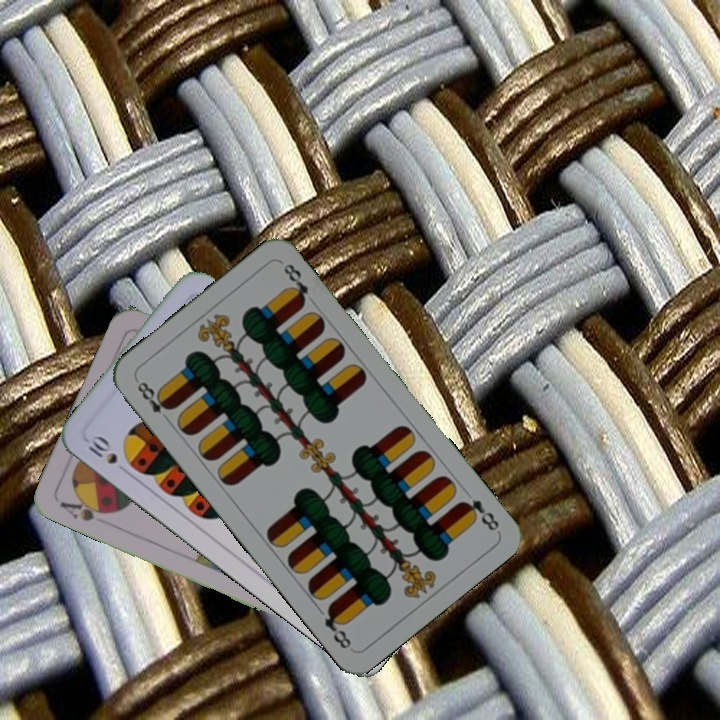E8: (132, 375, 175, 426), (456, 495, 502, 534)
S10: (82, 430, 132, 477)
SA: (55, 493, 115, 524)
